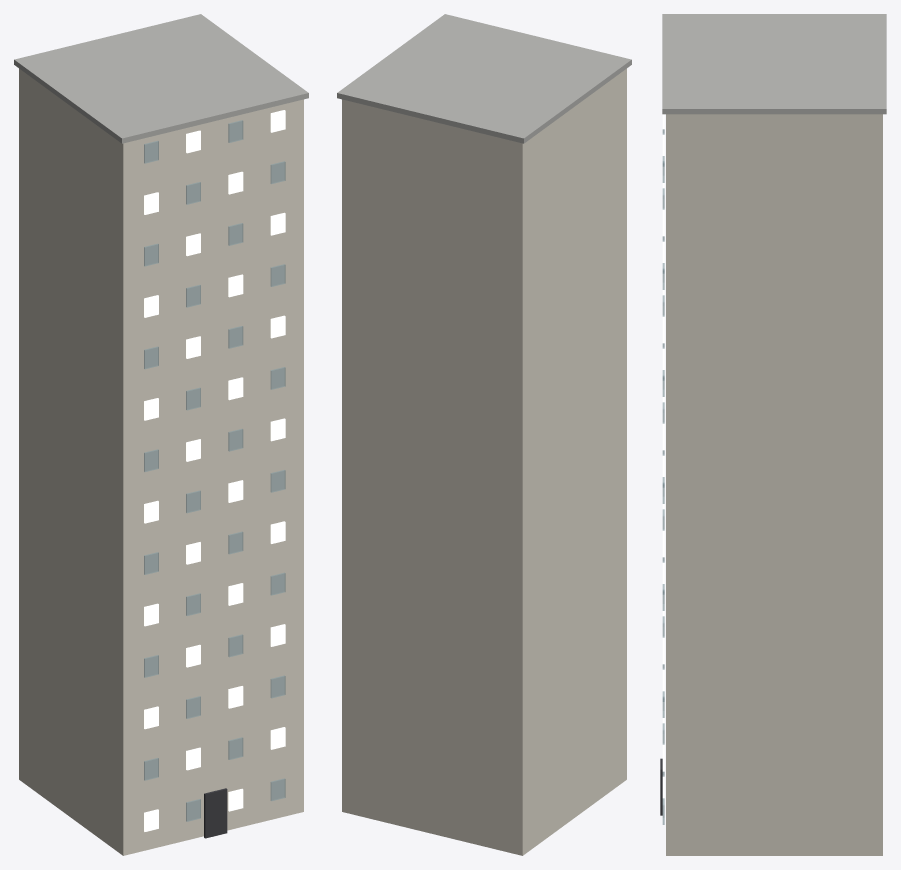
Rendered from tower_02.glb.
3 renders of one model, left to right at view 1: azimuth 30°, elevation 25°; view 2: azimuth 150°, elevation 25°; view 3: azimuth 270°, elevation 25°, orthographic. The views are drawn at different scales.
Visible parts, largest first — view 1: Mass.005, Roof.005, Door.005; view 2: Mass.005, Roof.005; view 3: Mass.005, Roof.005.
Boxes of the visible parts, box(x1,y1,x2,y2) form: Mass.005: box(19, 68, 303, 855); Roof.005: box(14, 14, 308, 143); Door.005: box(204, 788, 227, 838); Mass.005: box(342, 68, 626, 855); Roof.005: box(337, 14, 631, 143); Mass.005: box(666, 114, 882, 855); Roof.005: box(662, 14, 886, 114).
Bounding box in the file's own units: 9.3 × 34.22 × 9.38.
